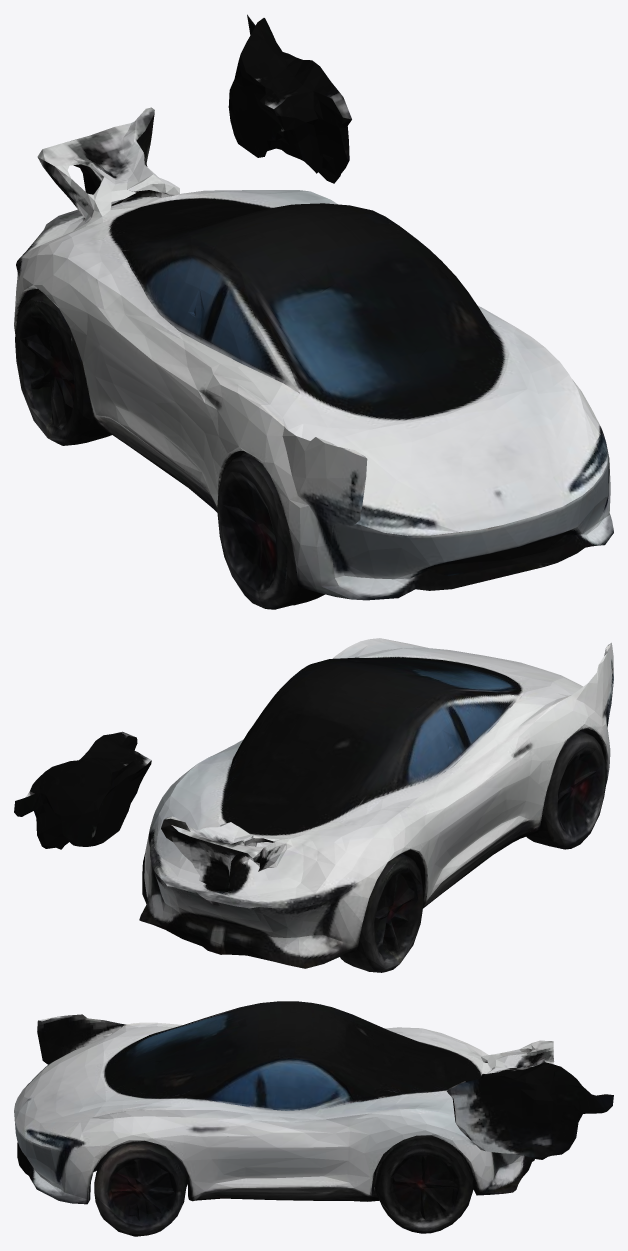
Rendered from apexrs.glb.
The picture shows the model from 3 angles, top to bottom: view 1: azimuth 30°, elevation 25°; view 2: azimuth 150°, elevation 25°; view 3: azimuth 270°, elevation 25°; orthographic projection. The views are drawn at different scales.
Parts seen in each view (by area): view 1: world; view 2: world; view 3: world.
Boxes of the visible parts, <box> form: world: <box>14,14,613,609</box>; world: <box>14,638,613,972</box>; world: <box>14,1001,613,1236</box>.
Size of the model in its own units: 0.3655 by 0.2596 by 0.7976.
Materials: 1 (1 with a texture image).
